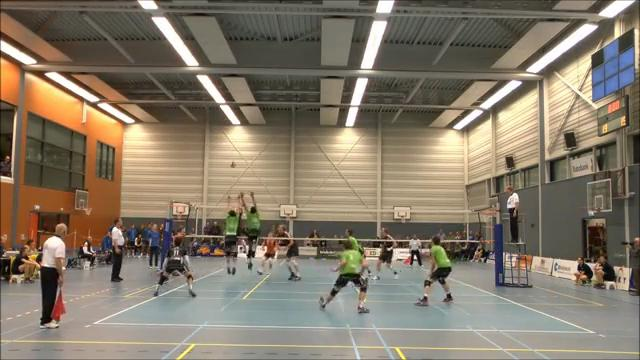Block: (239, 190, 262, 268), (221, 192, 239, 274)
Player: (320, 241, 368, 312), (154, 232, 195, 296), (416, 236, 452, 305), (276, 225, 300, 280), (373, 228, 397, 279), (257, 230, 277, 274), (346, 229, 365, 257)
ball: (228, 161, 236, 169)
